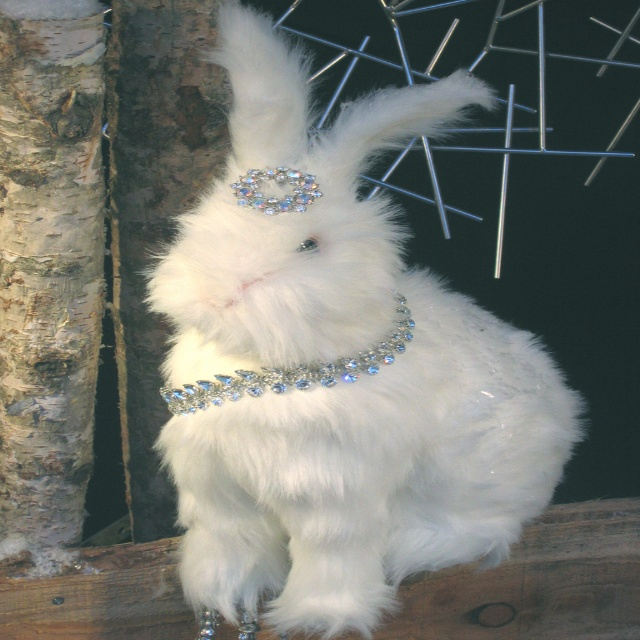Rabbit: (134, 2, 591, 640)
